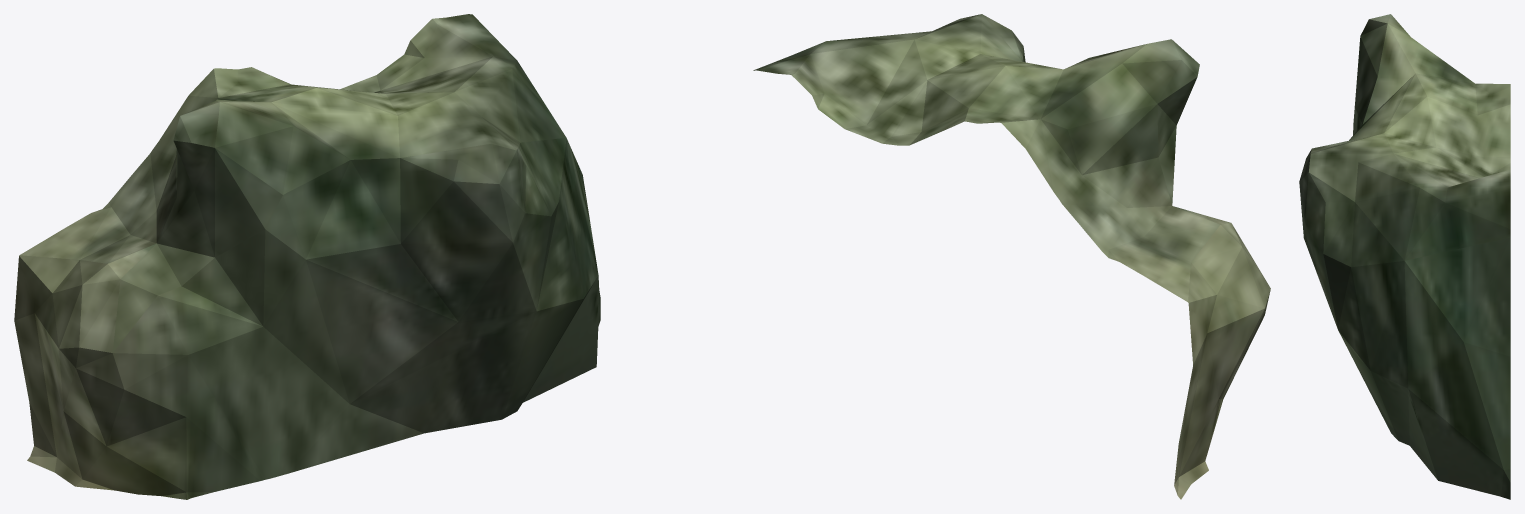
3 renders of one model, left to right at view 1: azimuth 30°, elevation 25°; view 2: azimuth 150°, elevation 25°; view 3: azimuth 270°, elevation 25°, orthographic. The views are drawn at different scales.
Size of the model in its own units: 2.84 by 1.75 by 1.11.
Materials: 1 (1 with a texture image).
